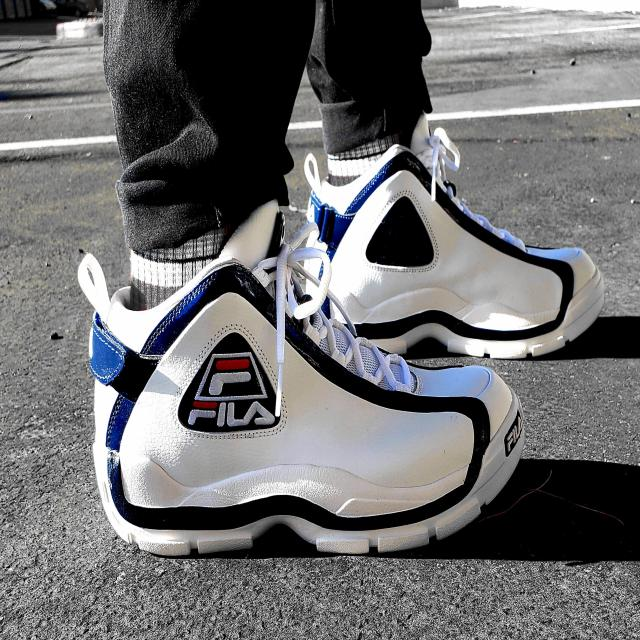shoe: (68, 194, 532, 567), (292, 106, 612, 367)
